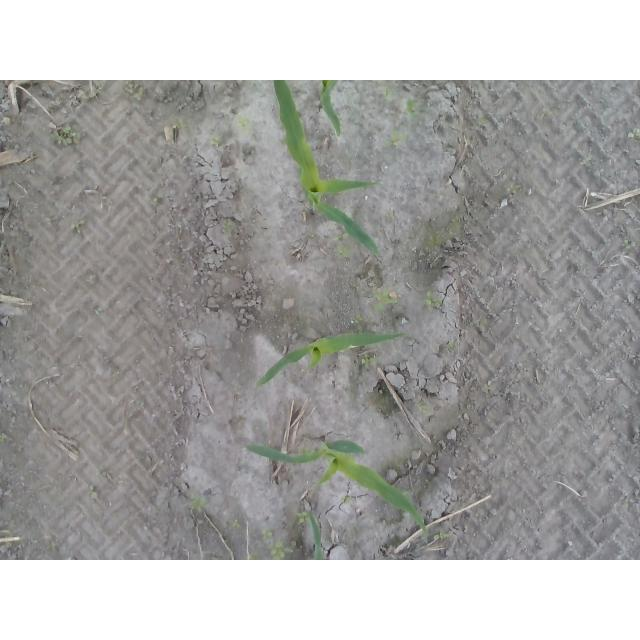Maize: (273, 80, 380, 256), (245, 441, 428, 535), (257, 331, 407, 389), (316, 81, 341, 140), (307, 509, 324, 560)
Weeds: (262, 529, 289, 560), (371, 288, 397, 313), (51, 126, 76, 146), (334, 232, 350, 259), (404, 98, 418, 122), (190, 495, 207, 513), (422, 293, 442, 308), (362, 353, 377, 367), (626, 126, 640, 140), (236, 114, 250, 126), (433, 532, 451, 541), (296, 511, 308, 523), (209, 135, 223, 145), (391, 131, 401, 145), (352, 313, 363, 324), (223, 221, 233, 232), (232, 519, 241, 529), (1, 434, 8, 443)
